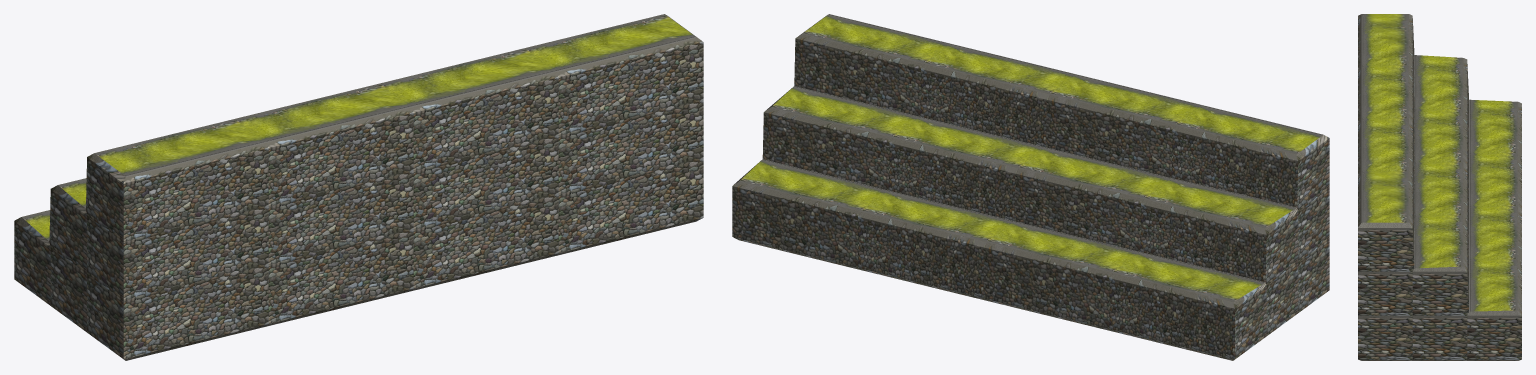
The model's file is Stairs_01.fbx.
3 views of the same model, side by side, from view 1: azimuth 30°, elevation 25°; view 2: azimuth 150°, elevation 25°; view 3: azimuth 270°, elevation 25° (orthographic). The views are drawn at different scales.
Visible parts, largest first — view 1: Wall34; view 2: Wall34; view 3: Wall34.
Part boxes in pixels (x1,y1,x2,y2): Wall34: (14,14,703,360); Wall34: (732,14,1329,360); Wall34: (1358,14,1521,360).
Size of the model in its own units: 11.03 by 3.36 by 3.6.
1 material, 1 textured.
